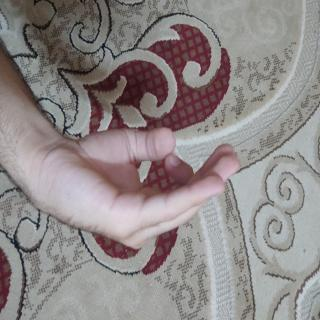Space: (86, 99, 196, 320)
